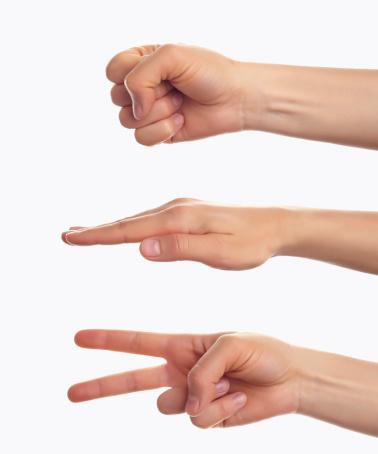paper: (50, 179, 292, 281)
rock: (88, 33, 261, 156)
scissors: (50, 309, 305, 444)
